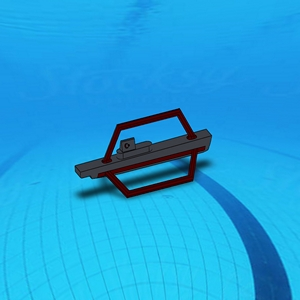submarine: (72, 106, 211, 198)
